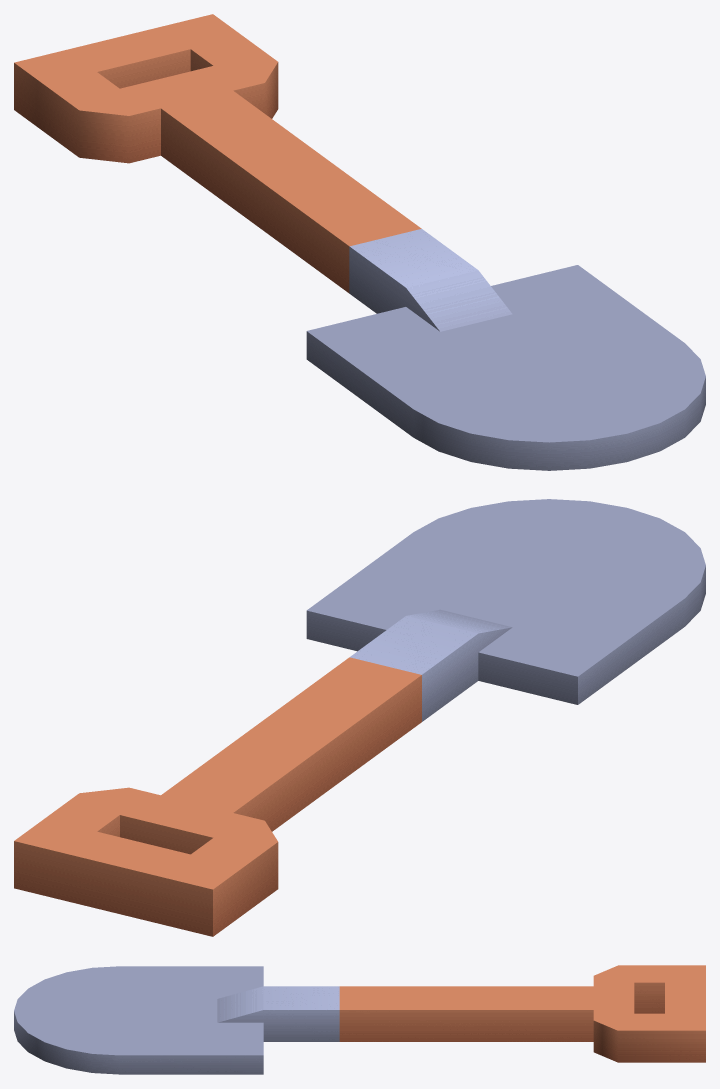
Rendered from shovel.glb.
The picture shows the model from 3 angles, top to bottom: view 1: azimuth 30°, elevation 25°; view 2: azimuth 150°, elevation 25°; view 3: azimuth 270°, elevation 25°; orthographic projection. The views are drawn at different scales.
Parts seen in each view (by area): view 1: shovel; view 2: shovel; view 3: shovel.
Boxes of the visible parts, x1,y1,x2,y2 form: shovel: (14, 14, 705, 470); shovel: (14, 499, 705, 936); shovel: (14, 965, 705, 1074).
Size of the model in its own units: 0.192 by 0.032 by 0.63.
Materials: 1 (1 with a texture image).
